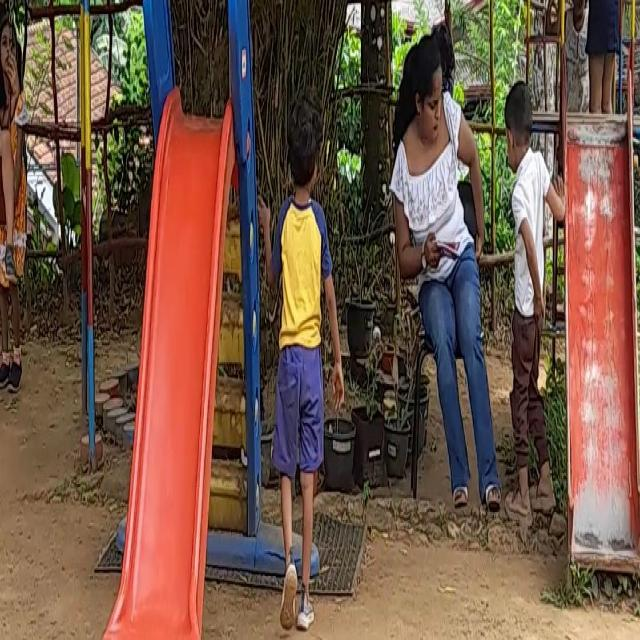adult: (405, 9, 490, 493)
child: (270, 93, 340, 625), (508, 54, 556, 514), (572, 0, 634, 94)
